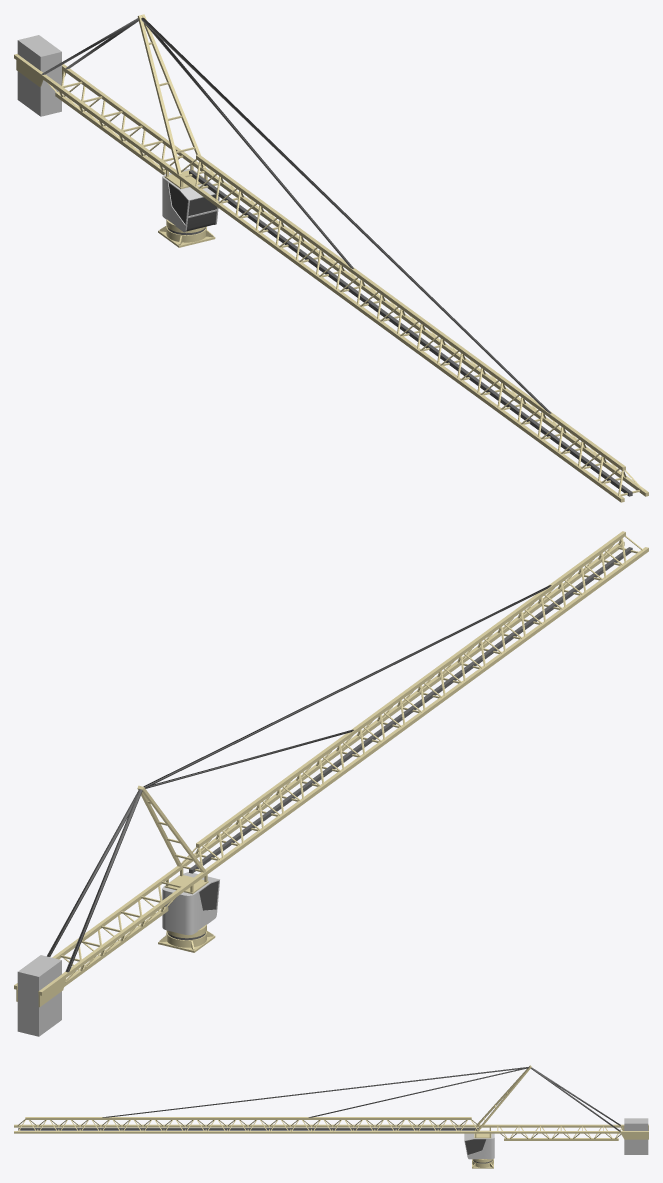
The model's file is CraneCab.fbx.
The picture shows the model from 3 angles, top to bottom: view 1: azimuth 30°, elevation 25°; view 2: azimuth 150°, elevation 25°; view 3: azimuth 270°, elevation 25°; orthographic projection. The views are drawn at different scales.
Parts seen in each view (by area): view 1: Cab1; view 2: Cab1; view 3: Cab1.
Boxes of the visible parts, left/top/right/bottom form: Cab1: left=14, top=14, right=648, bottom=502; Cab1: left=14, top=531, right=648, bottom=1036; Cab1: left=14, top=1065, right=648, bottom=1162.
Size of the model in its own units: 5.21 by 25.77 by 151.
